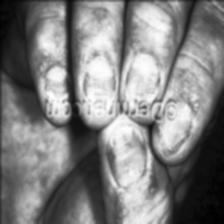Non-Cancerous Skin Condition: (27, 27, 207, 156), (92, 128, 159, 224)
